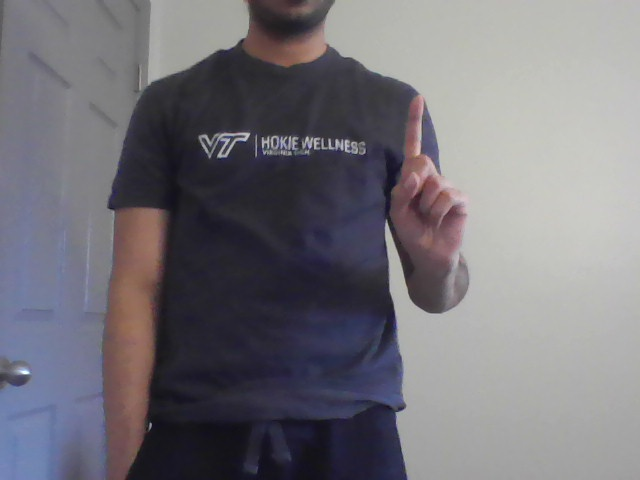one: (384, 90, 471, 268)
